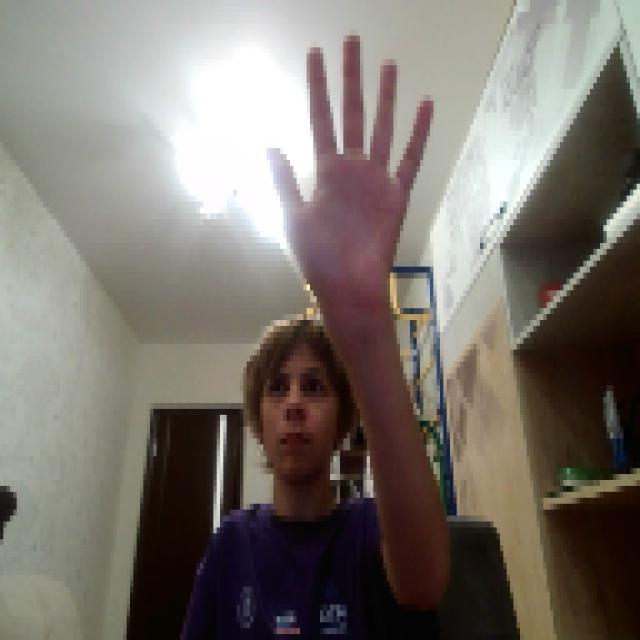hand: (263, 24, 430, 296)
